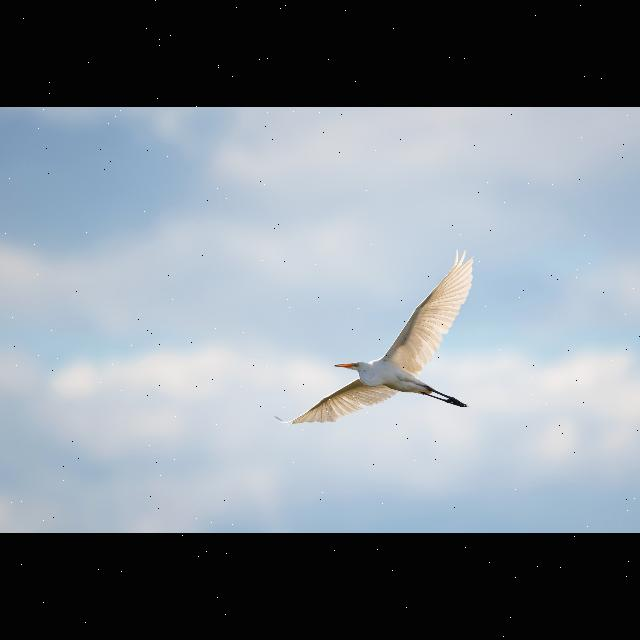egret: (271, 241, 485, 453)
